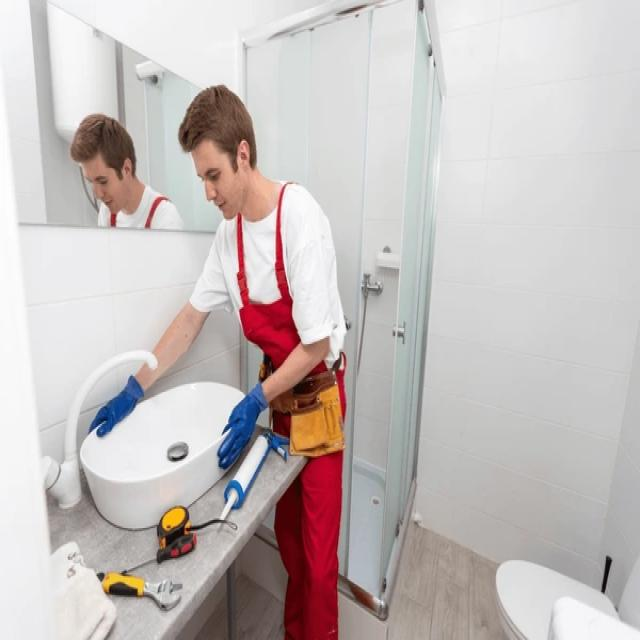Fitting: (19, 163, 401, 640)
